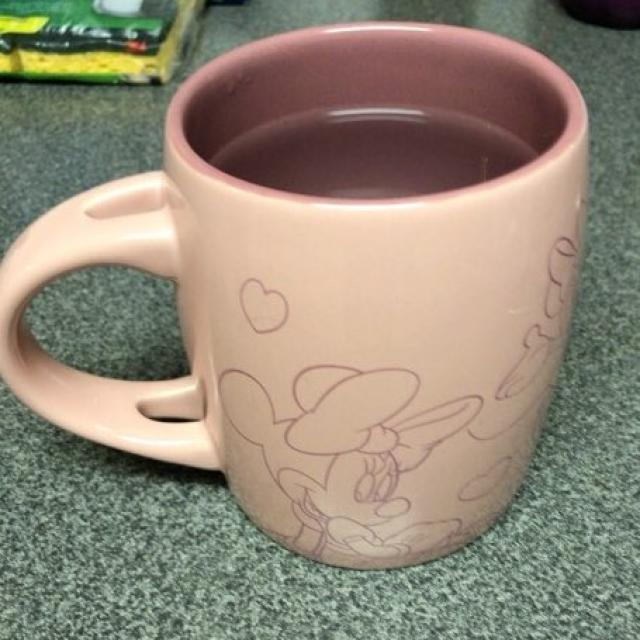water: (212, 102, 531, 200)
